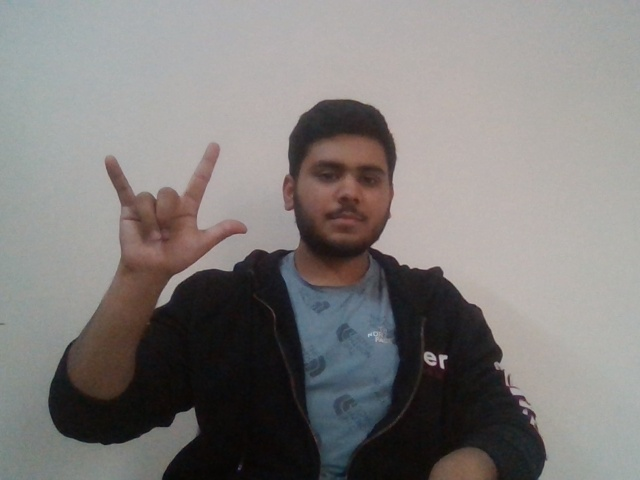IloveYou: (86, 139, 253, 258)
